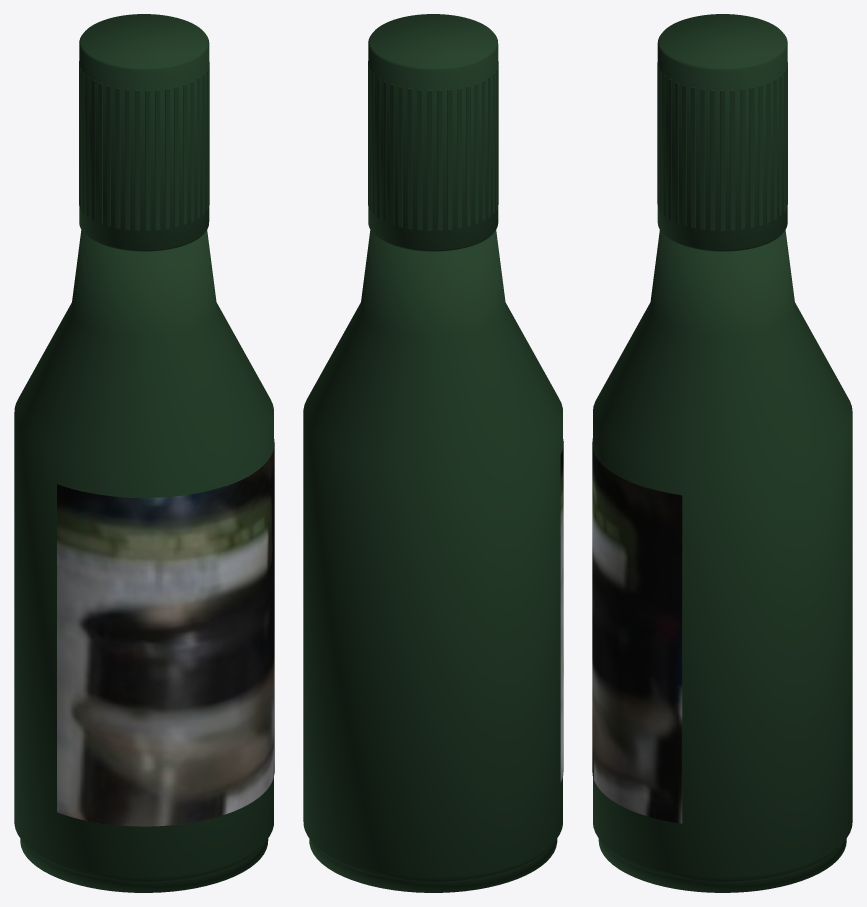
The model's file is pantry_contents__oil_bottle.glb.
3 renders of one model, left to right at view 1: azimuth 30°, elevation 25°; view 2: azimuth 150°, elevation 25°; view 3: azimuth 270°, elevation 25°, orthographic.
Parts seen in each view (by area): view 1: oil_bottle__body, oil_bottle__cap; view 2: oil_bottle__body, oil_bottle__cap; view 3: oil_bottle__body, oil_bottle__cap.
Boxes of the visible parts, x1=… form: oil_bottle__body: x1=14, y1=230, x2=274, y2=892; oil_bottle__cap: x1=79, y1=14, x2=209, y2=251; oil_bottle__body: x1=303, y1=230, x2=563, y2=892; oil_bottle__cap: x1=368, y1=14, x2=498, y2=251; oil_bottle__body: x1=592, y1=230, x2=852, y2=892; oil_bottle__cap: x1=657, y1=14, x2=787, y2=251.
Size of the model in its own units: 0.0691 by 0.2363 by 0.0692.
3 materials, 1 textured.
